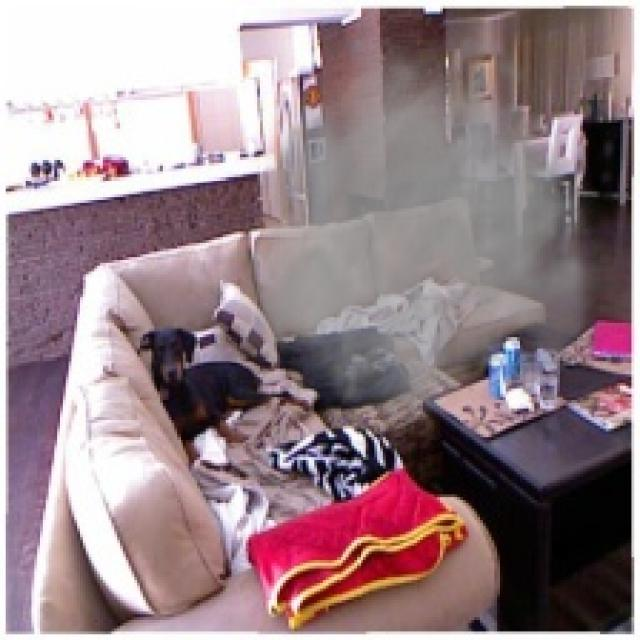smoke: (240, 20, 629, 437)
